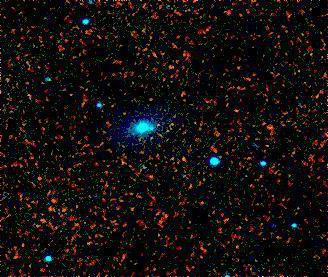star: (256, 113, 286, 143)
